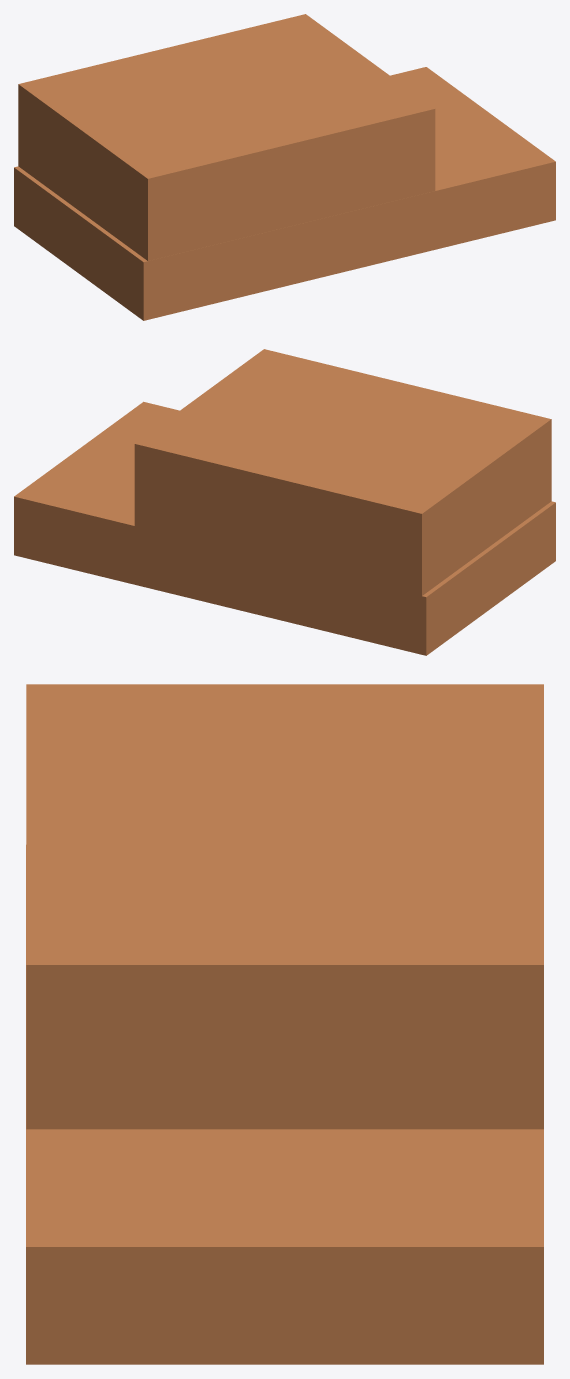
File: cocheNaranjaCubo.glb
3 views of the same model, one above another, from view 1: azimuth 30°, elevation 25°; view 2: azimuth 150°, elevation 25°; view 3: azimuth 270°, elevation 25° (orthographic). The views are drawn at different scales.
Visible parts, largest first — view 1: Mesh_Mesh_head_geo.001_lambert2SG.001; view 2: Mesh_Mesh_head_geo.001_lambert2SG.001; view 3: Mesh_Mesh_head_geo.001_lambert2SG.001.
Boxes of the visible parts, x1,y1,x2,y2 form: Mesh_Mesh_head_geo.001_lambert2SG.001: (14, 14, 555, 320); Mesh_Mesh_head_geo.001_lambert2SG.001: (14, 349, 555, 655); Mesh_Mesh_head_geo.001_lambert2SG.001: (26, 684, 543, 1364).
Bounding box in the file's own units: 0.147 × 0.048 × 0.08.
